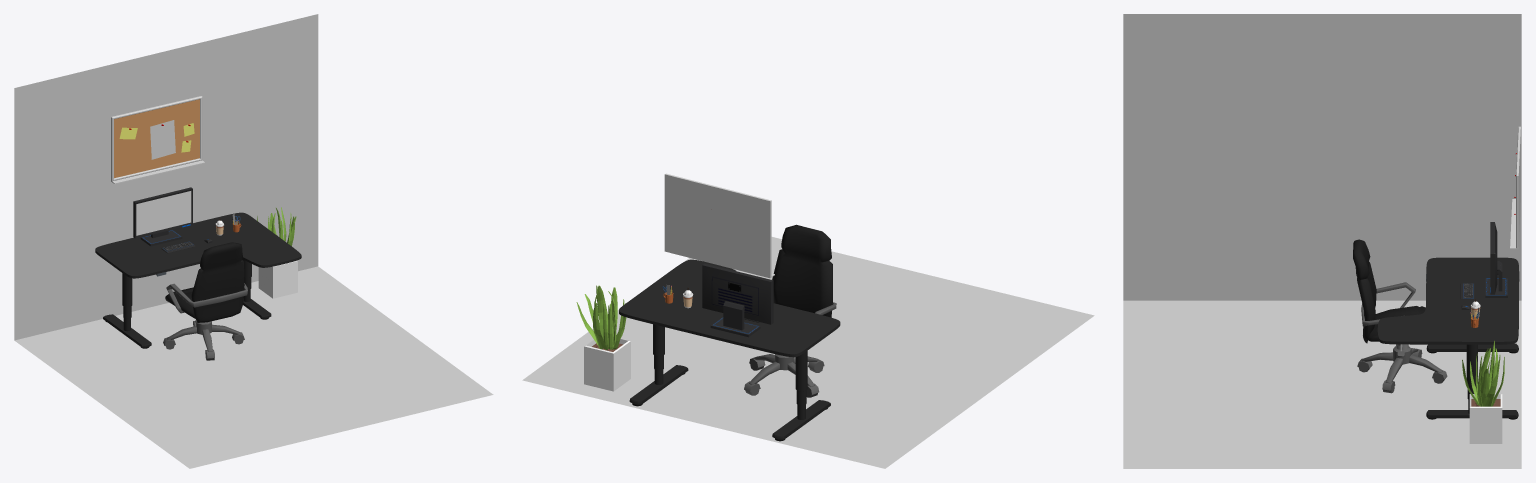
The model's file is realOffice.gltf.
3 renders of one model, left to right at view 1: azimuth 30°, elevation 25°; view 2: azimuth 150°, elevation 25°; view 3: azimuth 270°, elevation 25°, orthographic. The views are drawn at different scales.
Visible parts, largest first — view 1: Plane, Message_Board, Plane.001_Plane.002, Computer Chair, MonitorScreen, group1885116500, Monitor, Cube_Cube.001; view 2: Plane, Message_Board, Plane.001_Plane.002, Computer Chair, Monitor, group1885116500, Cube.006_Cube.007, Cube_Cube.001; view 3: Plane, Plane.001_Plane.002, Computer Chair, group1885116500, Monitor, Message_Board, Cube_Cube.001, Cube.006_Cube.007, Cylinder.010.
Boxes of the visible parts, bbox=[...] form: Plane: bbox=[14, 14, 493, 468]; Message_Board: bbox=[111, 96, 204, 184]; Plane.001_Plane.002: bbox=[95, 212, 301, 278]; Computer Chair: bbox=[163, 242, 247, 360]; MonitorScreen: bbox=[136, 191, 191, 235]; group1885116500: bbox=[258, 260, 297, 298]; Monitor: bbox=[133, 187, 192, 246]; Cube_Cube.001: bbox=[103, 314, 151, 347]; Plane: bbox=[522, 237, 1094, 468]; Message_Board: bbox=[664, 173, 774, 278]; Plane.001_Plane.002: bbox=[619, 259, 840, 357]; Computer Chair: bbox=[744, 224, 836, 397]; Monitor: bbox=[702, 263, 773, 337]; group1885116500: bbox=[584, 338, 630, 391]; Cube.006_Cube.007: bbox=[629, 365, 688, 404]; Cube_Cube.001: bbox=[772, 400, 830, 439]; Plane: bbox=[1123, 14, 1521, 468]; Plane.001_Plane.002: bbox=[1377, 257, 1519, 344]; Computer Chair: bbox=[1353, 239, 1447, 393]; group1885116500: bbox=[1469, 394, 1502, 443]; Monitor: bbox=[1485, 222, 1507, 297]; Message_Board: bbox=[1510, 126, 1520, 249]; Cube_Cube.001: bbox=[1426, 343, 1518, 351]; Cube.006_Cube.007: bbox=[1426, 410, 1518, 418]; Cylinder.010: bbox=[1466, 344, 1477, 386].
Size of the model in its own units: 4 by 3.17 by 4.
17 materials, 4 textured.
